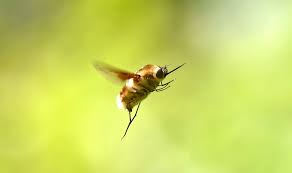insect: (88, 59, 185, 140)
